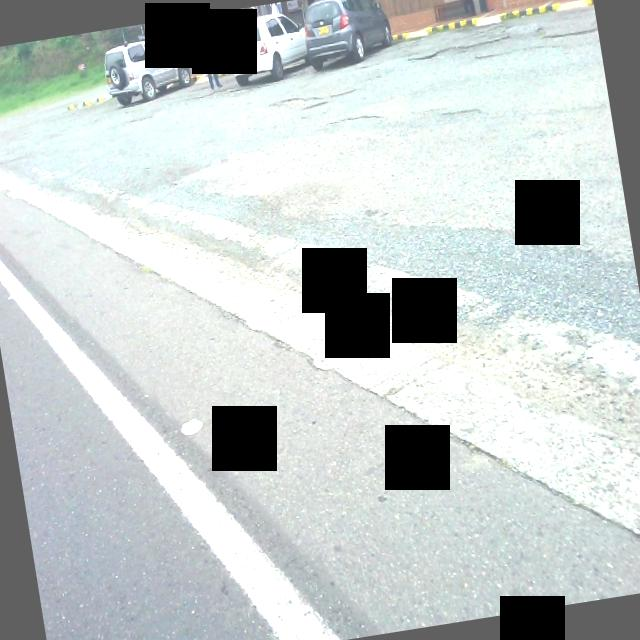DITCH: (0, 22, 640, 640), (0, 58, 640, 640)
